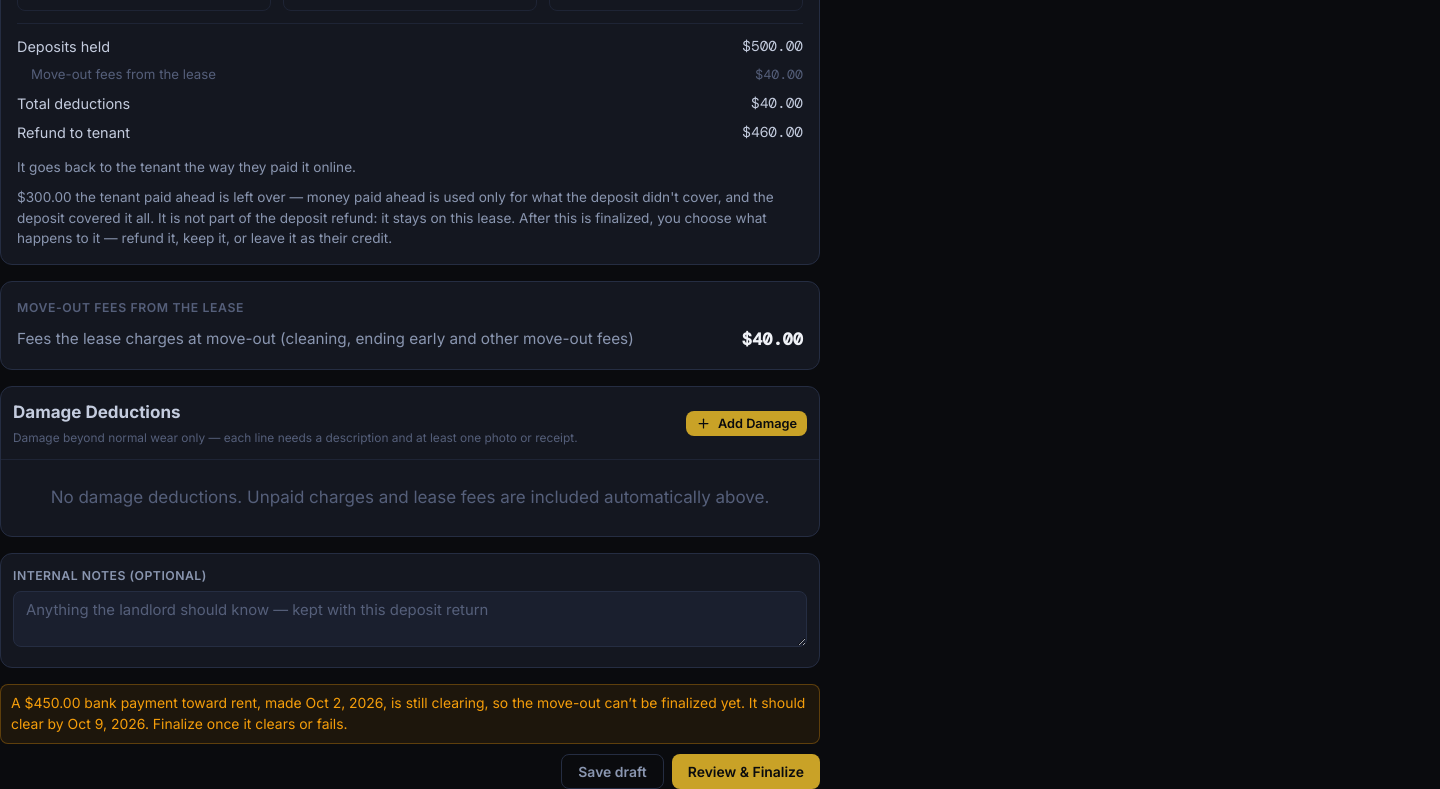
Test case: Deposit return: the server's figures, never the page's own sum › it cleared since the page opened: Review & Finalize reads fresh, the note is gone, and the confirm opens
(page scrolled)
Click the button "Review & Finalize" at [746, 772], box [672,754,820,788]
(page scrolled)
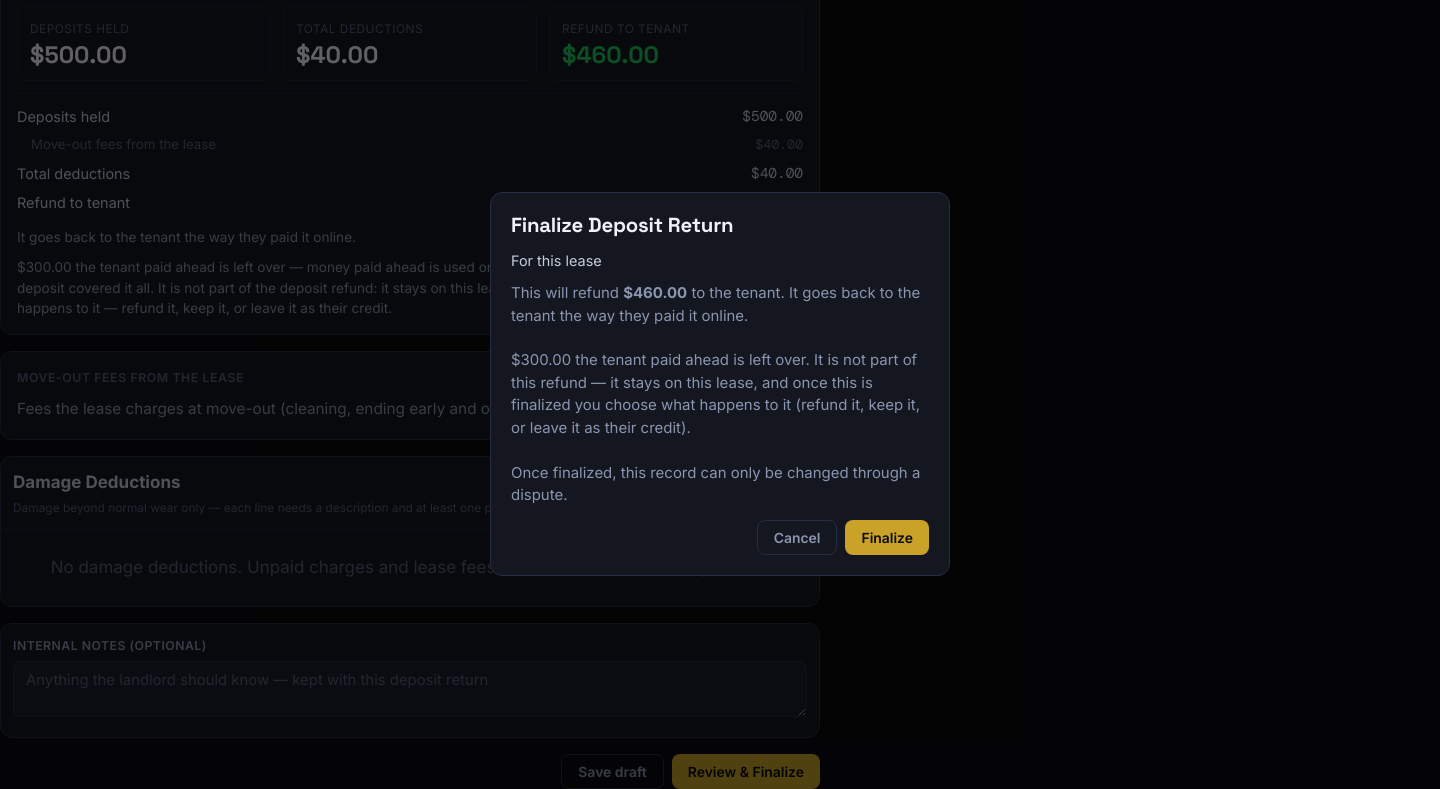
Expected: the text with test id "payments-clearing" is gone
